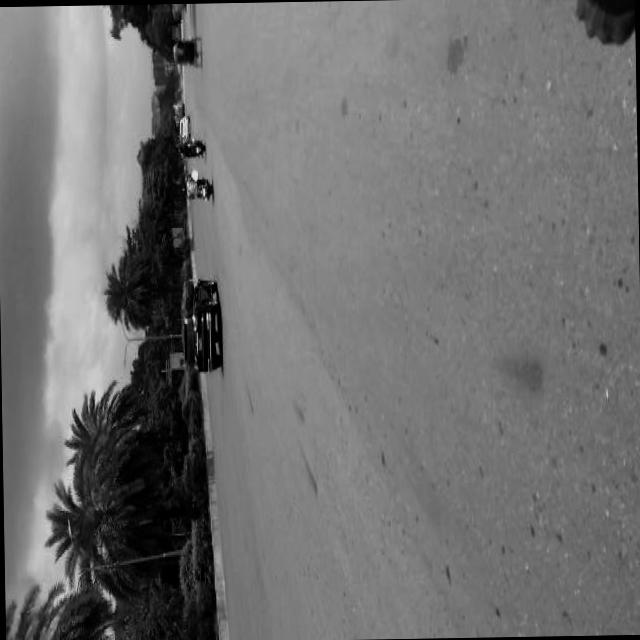bus: (172, 98, 184, 116)
car: (178, 274, 222, 372), (178, 112, 188, 138)
motorcycle: (171, 32, 203, 67), (179, 170, 213, 202), (177, 132, 204, 155)
